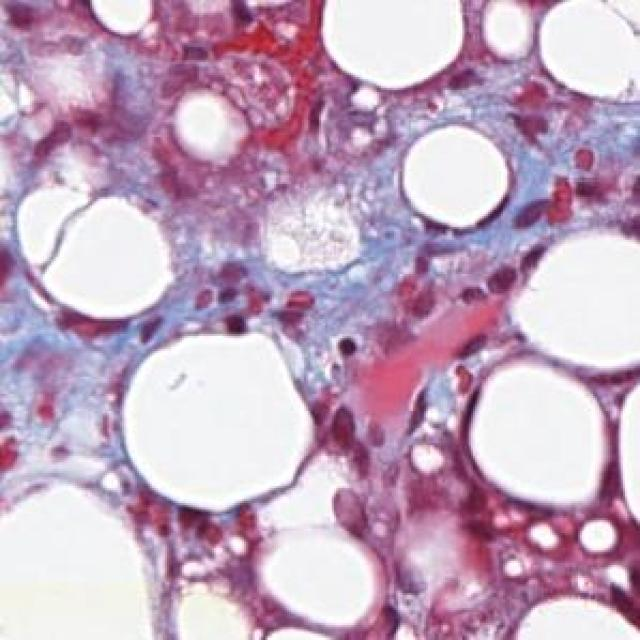inflammation: (503, 135, 608, 233)
